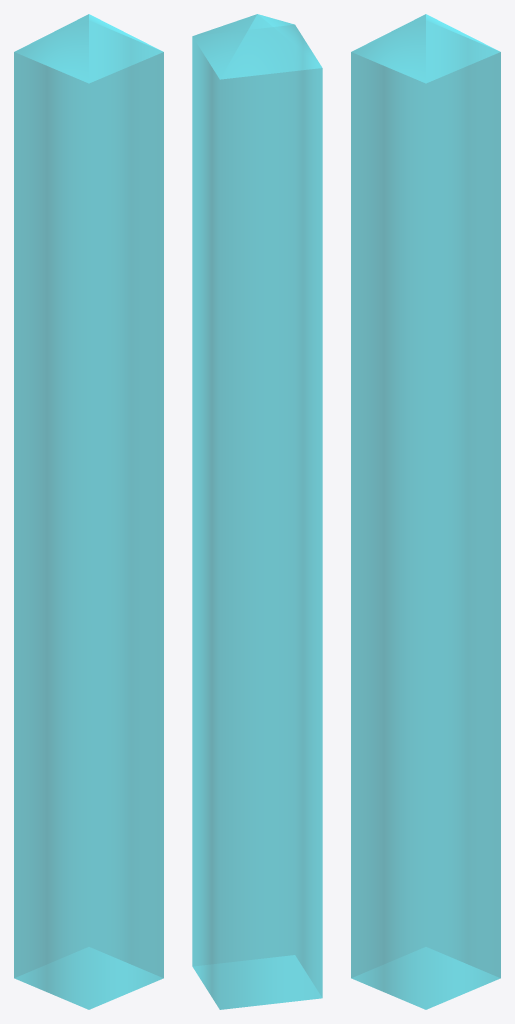
The model's file is cystal01.FBX.
3 views of the same model, side by side, from view 1: azimuth 90°, elevation 25°; view 2: azimuth 150°, elevation 25°; view 3: azimuth 270°, elevation 25° (orthographic).
Parts seen in each view (by area): view 1: crystal_01; view 2: crystal_01; view 3: crystal_01.
Boxes of the visible parts, bbox=[...] form: crystal_01: bbox=[14, 14, 163, 1009]; crystal_01: bbox=[192, 14, 322, 1009]; crystal_01: bbox=[351, 14, 500, 1009].
Bounding box in the file's own units: 32 × 32 × 227.
